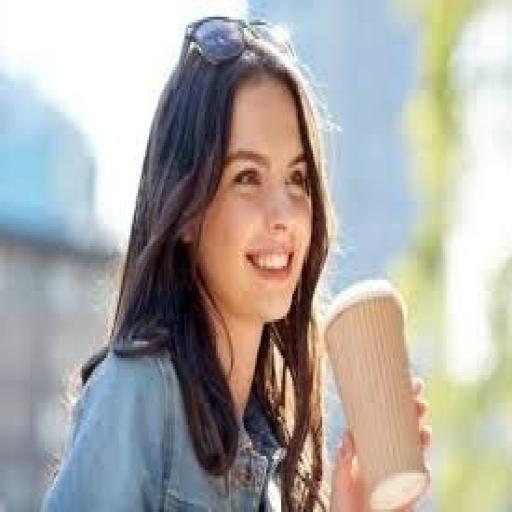drinking: (322, 277, 428, 509)
